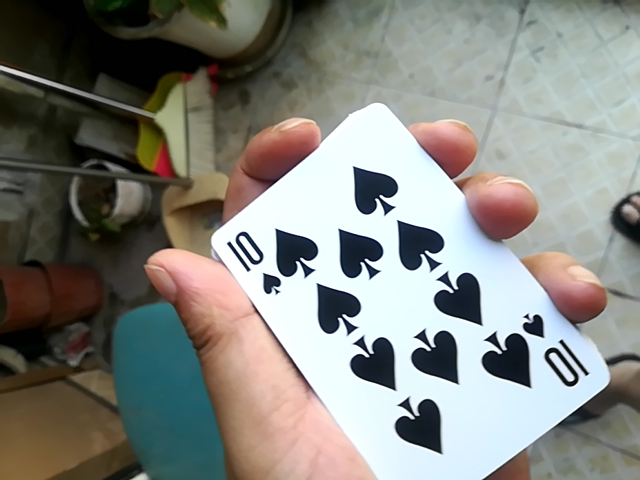ht 10: (193, 88, 610, 480)
